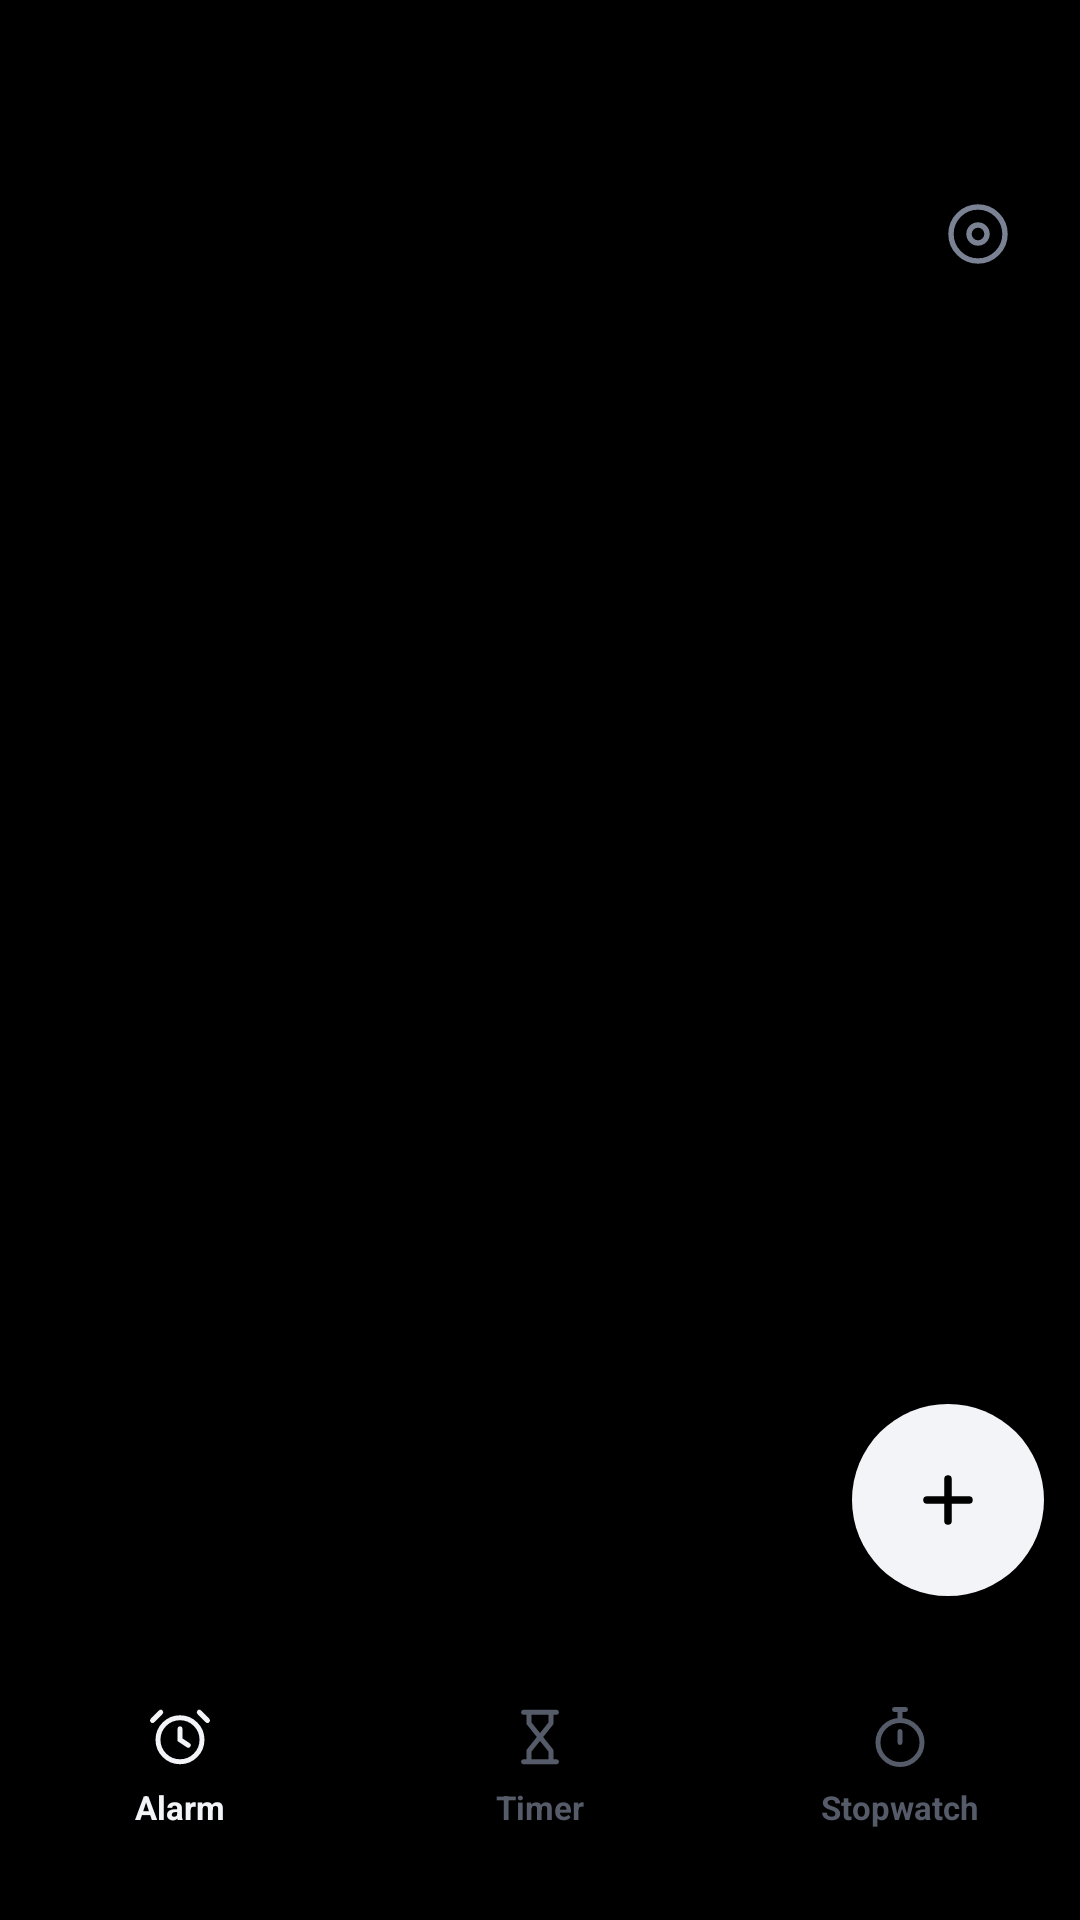

Named icons in this screenshot (1080w x 1920h) and their centers, point (x, y):
Add alarm: point (948, 1500)
